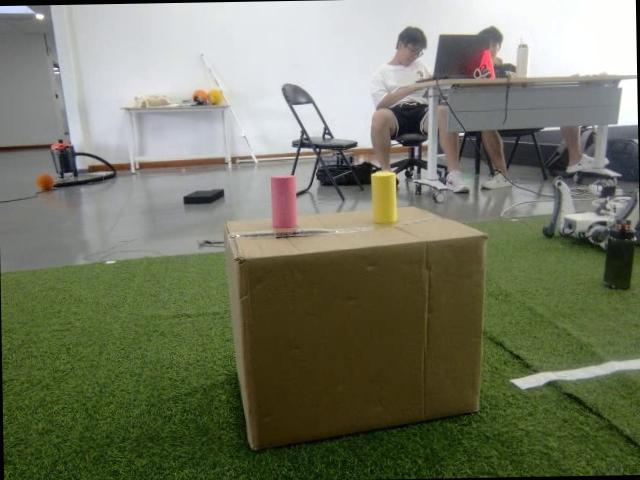red_cylinder: (270, 174, 296, 229)
yellow_cylinder: (368, 168, 401, 224)
